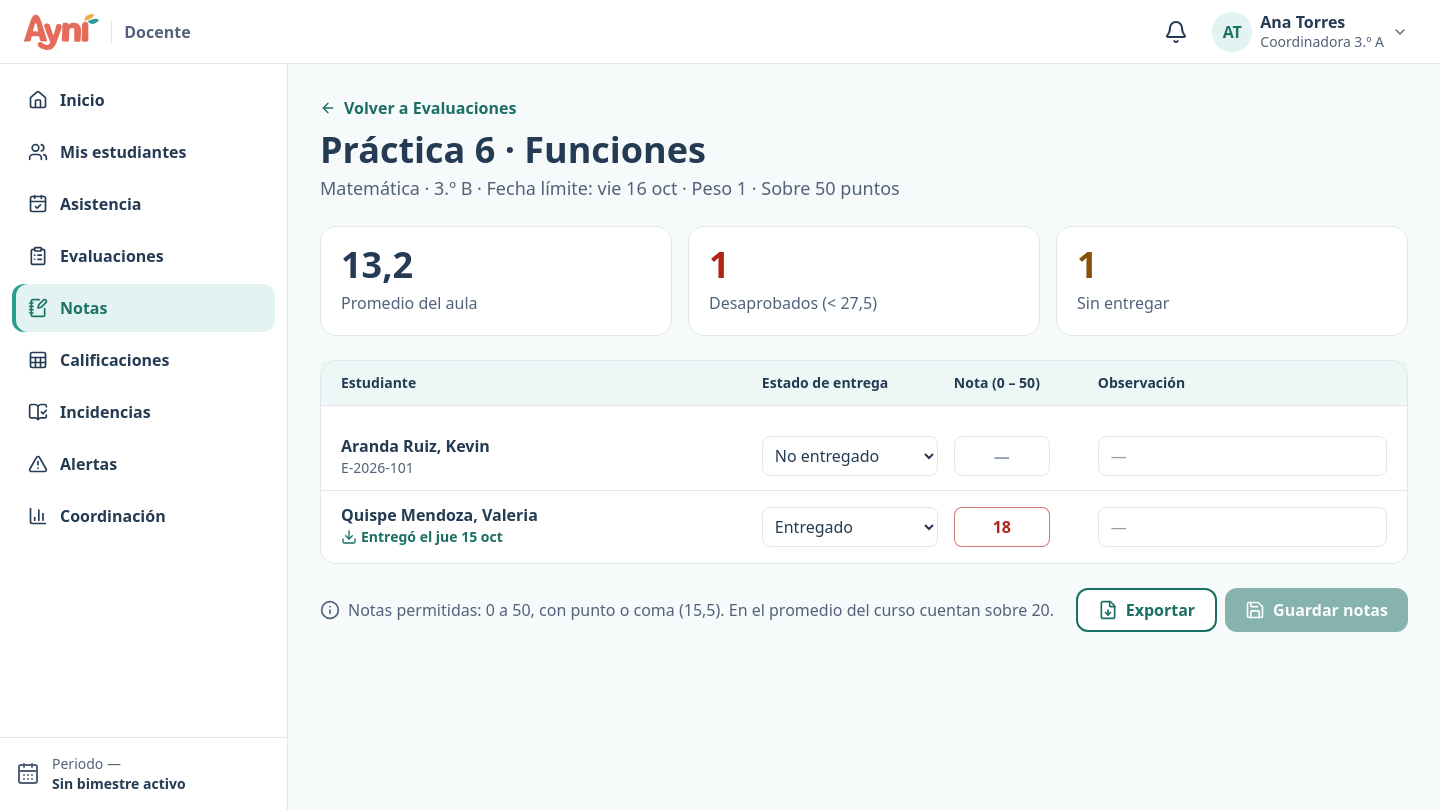
Test: Notas (RF-43, RN-08) › un examen sobre 50 acepta hasta 50 y cada campo tiene su rótulo (en el celular no hay cabecera)
The image size is (1440, 810).
Expected: the text "En el promedio del curso cuentan sobre 20" is shown, [725, 599, 1054, 621]
Type "45" into the field named "Nota de Aranda Ruiz, Kevin". click: (1002, 456)
box: [954, 436, 1050, 476]
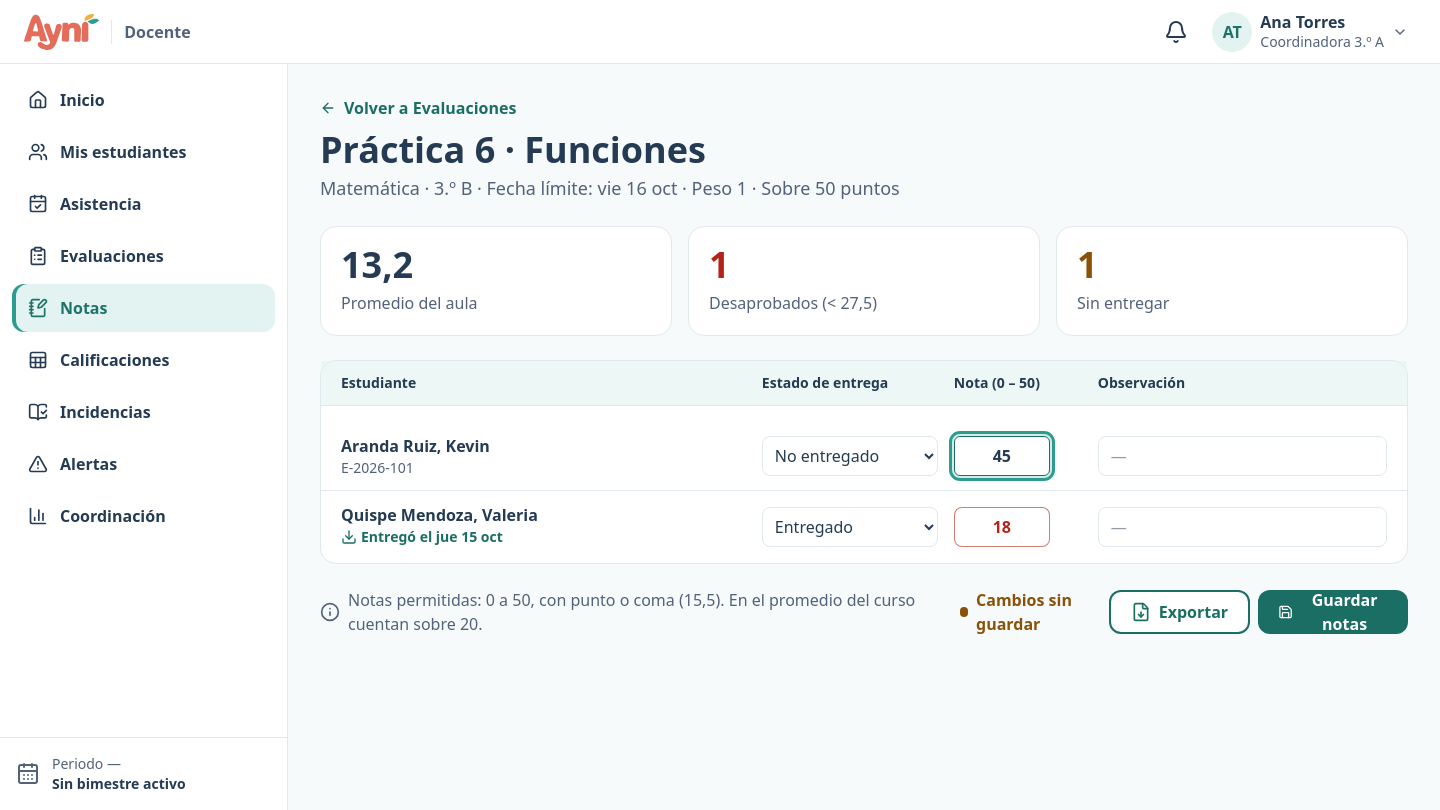
Expected: the text "La nota debe estar entre 0 y 50." is not shown
Type "1" into the field named "Nota de Aranda Ruiz, Kevin". click: (1002, 456)
box: [954, 436, 1050, 476]
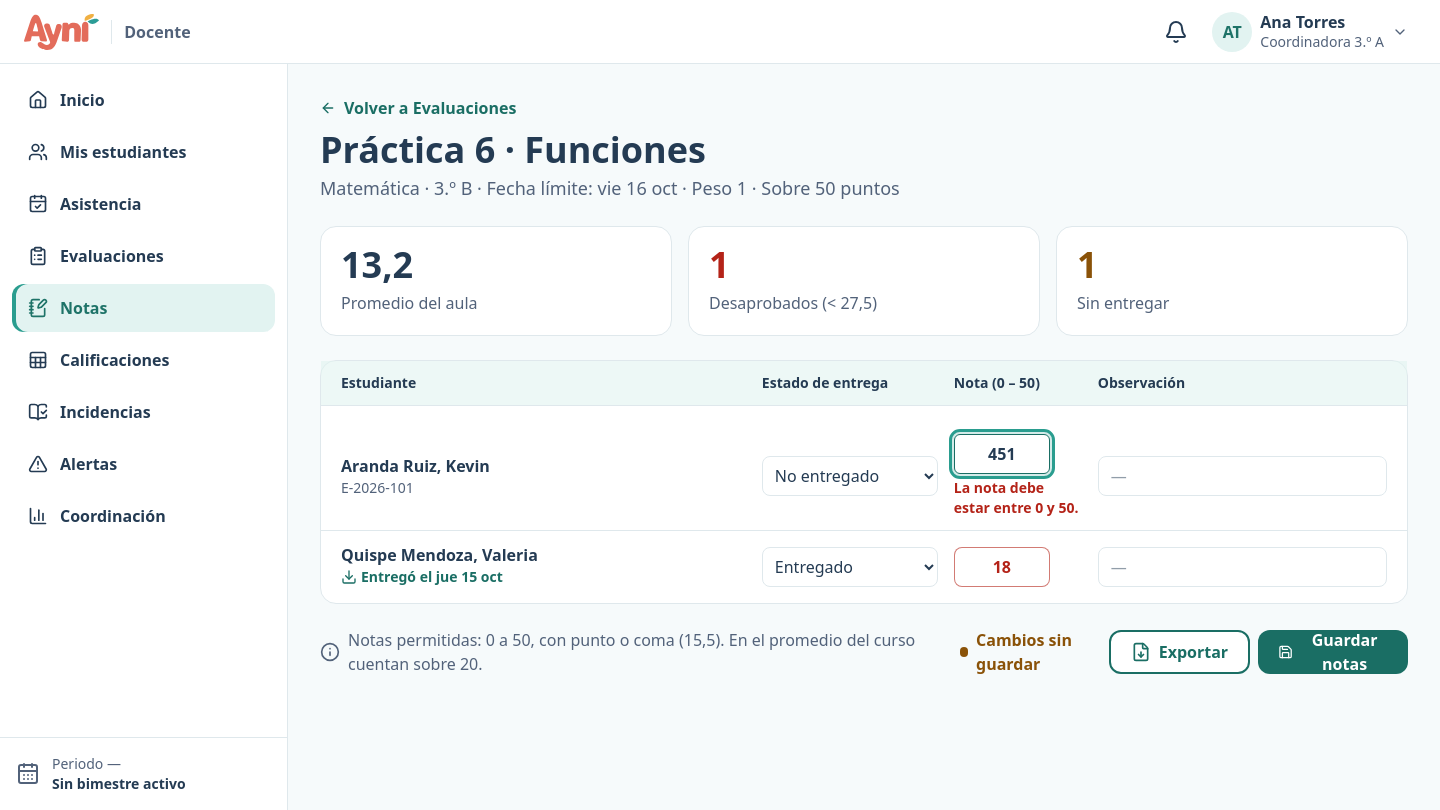
Expected: the text "La nota debe estar entre 0 y 50." is shown, [954, 478, 1082, 518]
